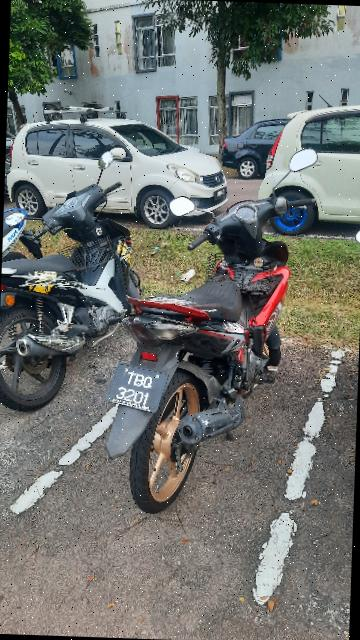License_Plate: (109, 365, 172, 418)
car: (5, 100, 232, 230), (256, 100, 360, 232)
motorcycle: (103, 139, 309, 521), (1, 145, 153, 417)
